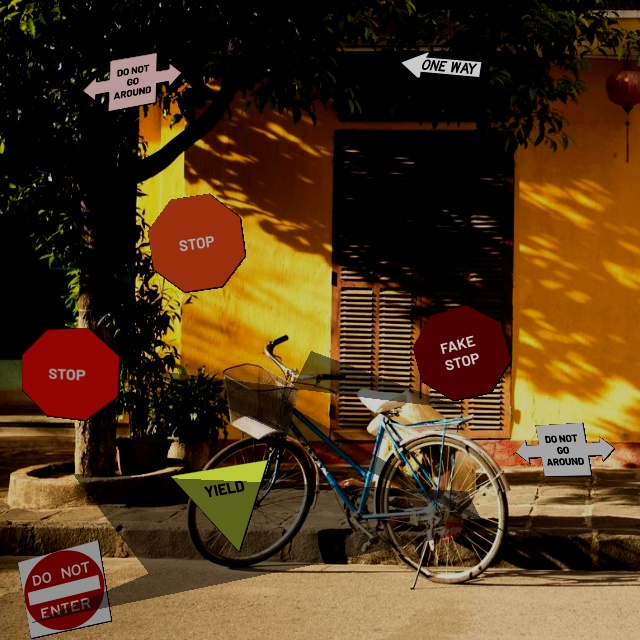DO_NOT_ENTER: (17, 539, 112, 639)
DO_NOT_GO_AROUND: (82, 52, 182, 112), (515, 422, 615, 477)
FAKE_STOP: (412, 304, 512, 401)
ONE_WAY_ left: (388, 49, 488, 86)
STOP: (147, 193, 246, 293), (21, 327, 121, 421)
YIELD: (169, 459, 269, 553)
